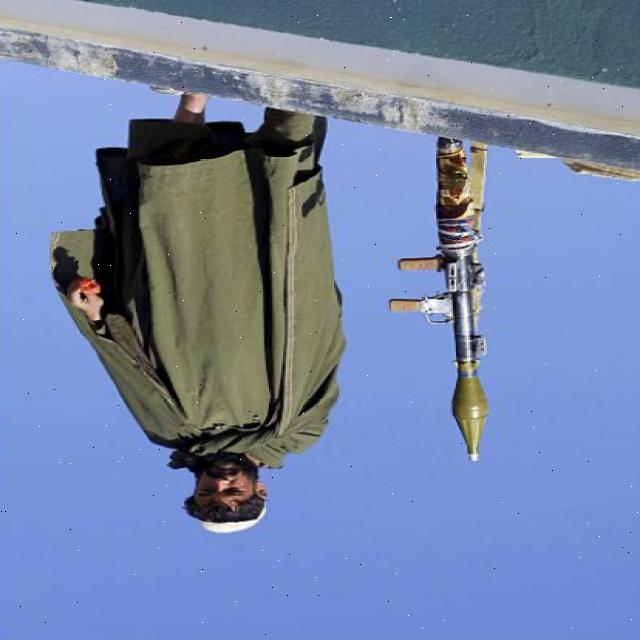bazooka: (426, 149, 511, 472)
